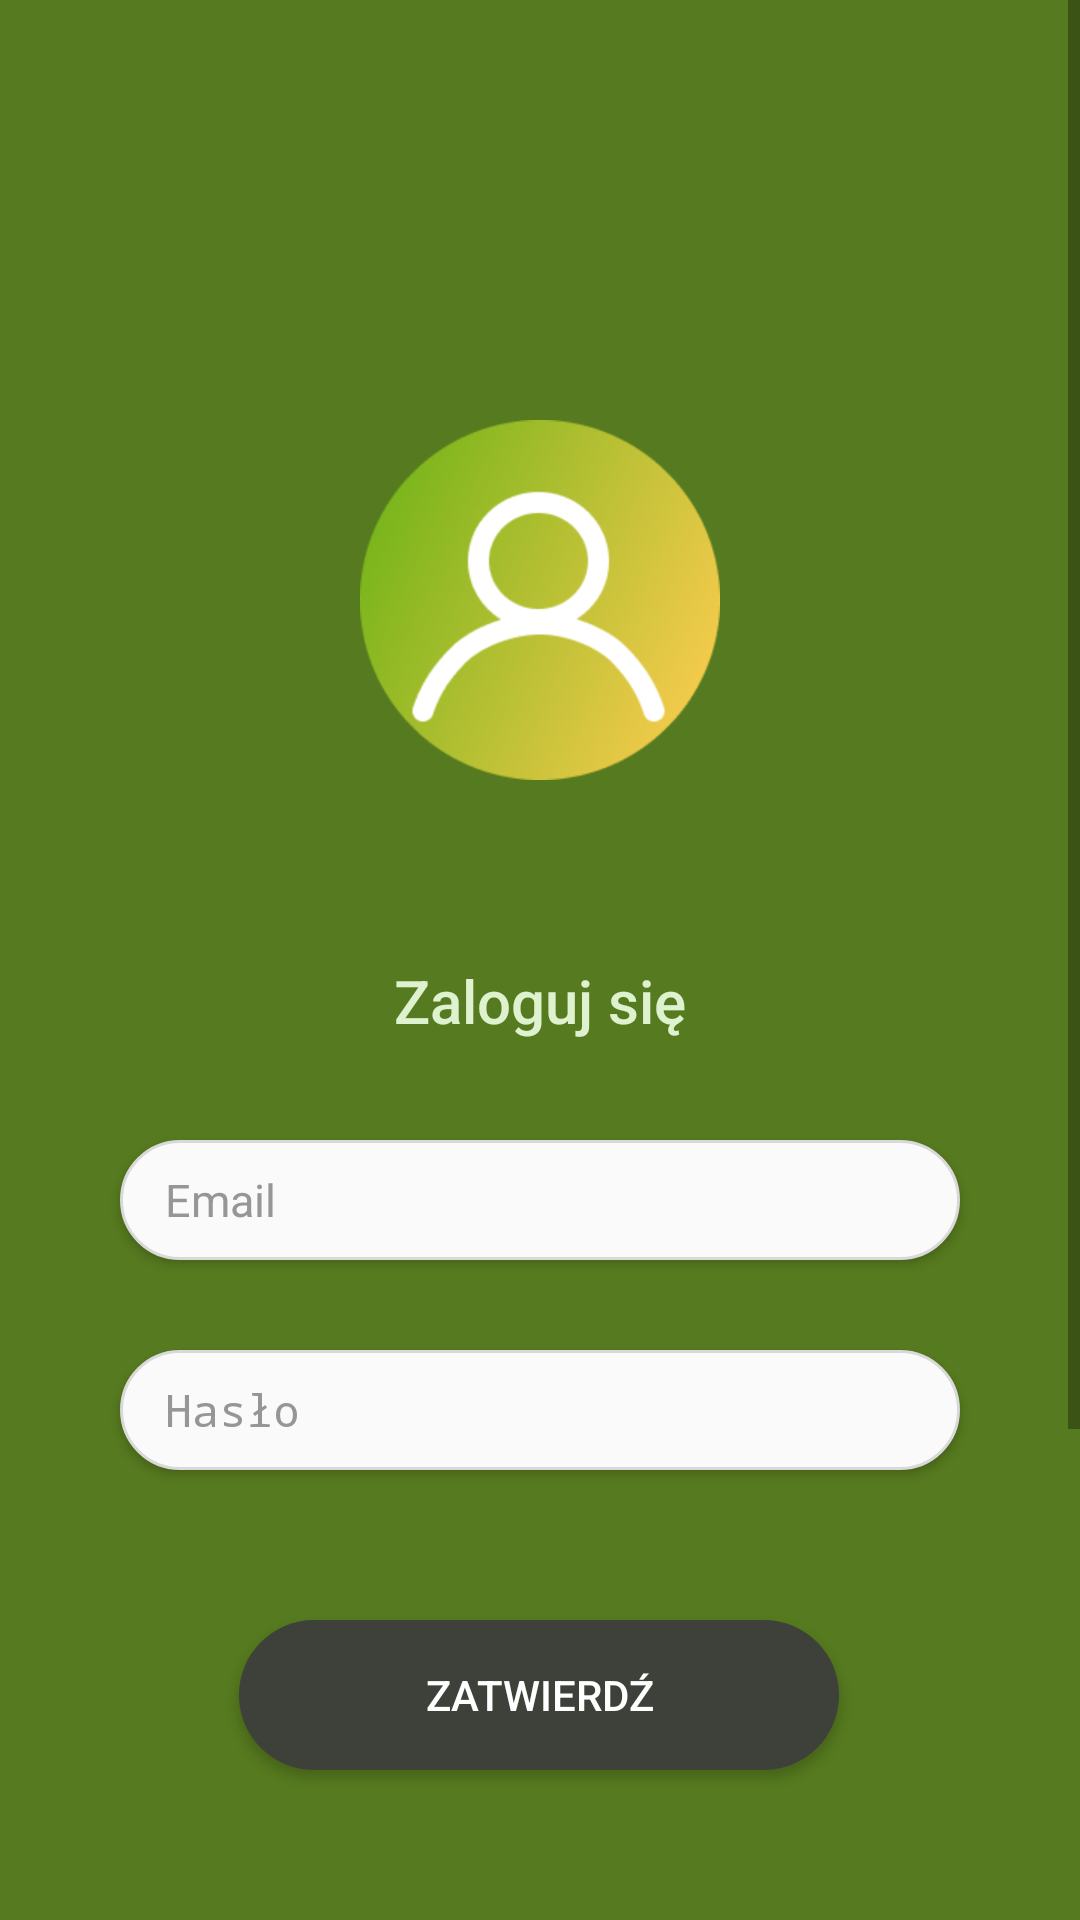

Icon click points for this 1080w x 1920h phone screenshot, format point (x, y):
user: point (540, 600)
